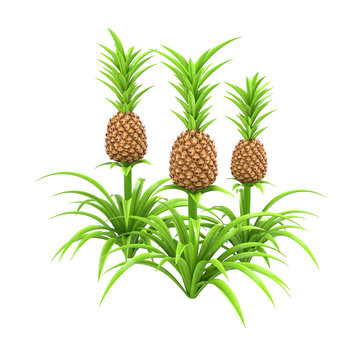Pineapple: (95, 26, 158, 164), (165, 53, 219, 191), (224, 70, 276, 182)
